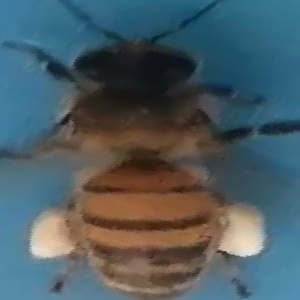bee: (8, 13, 290, 300)
